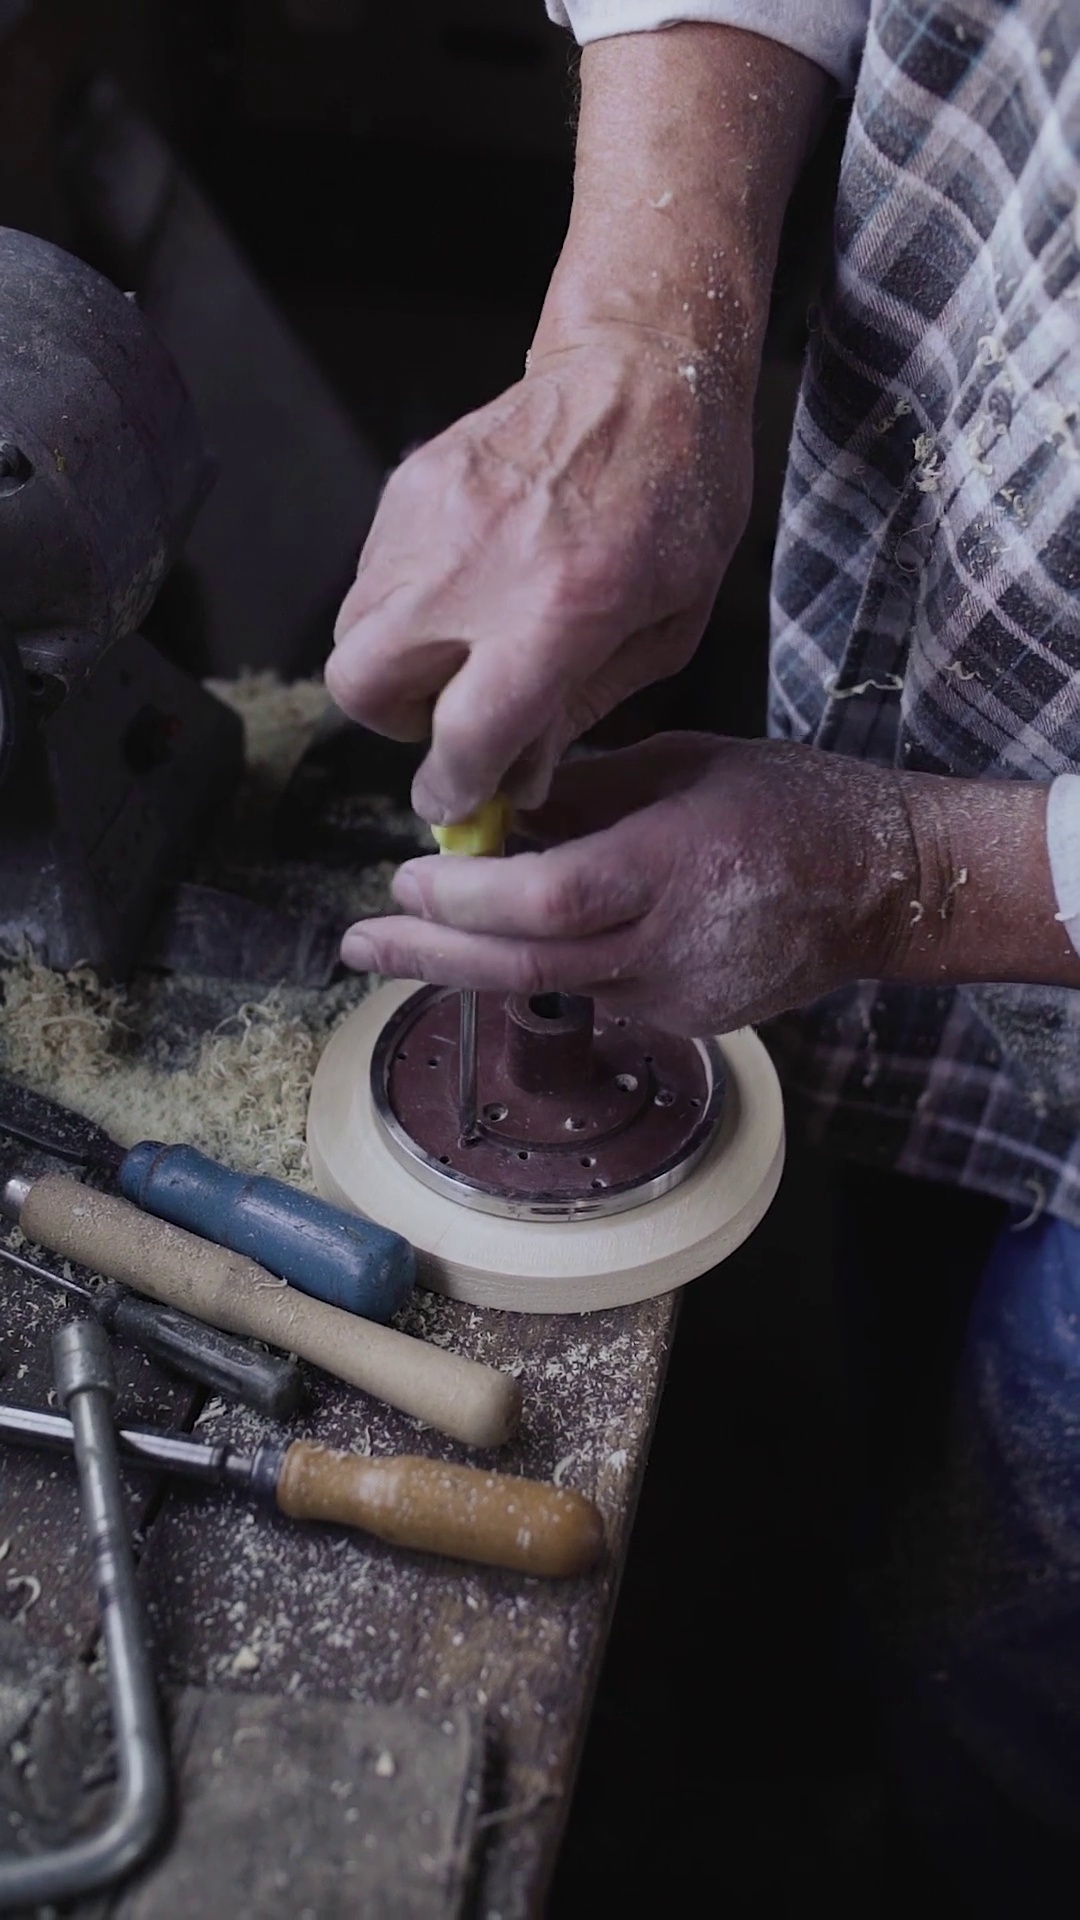screwdriver: (422, 676, 512, 1142)
